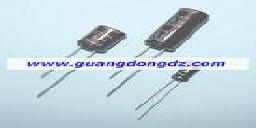Electrolytic-Capacitor: (141, 7, 212, 53), (74, 21, 129, 54)
